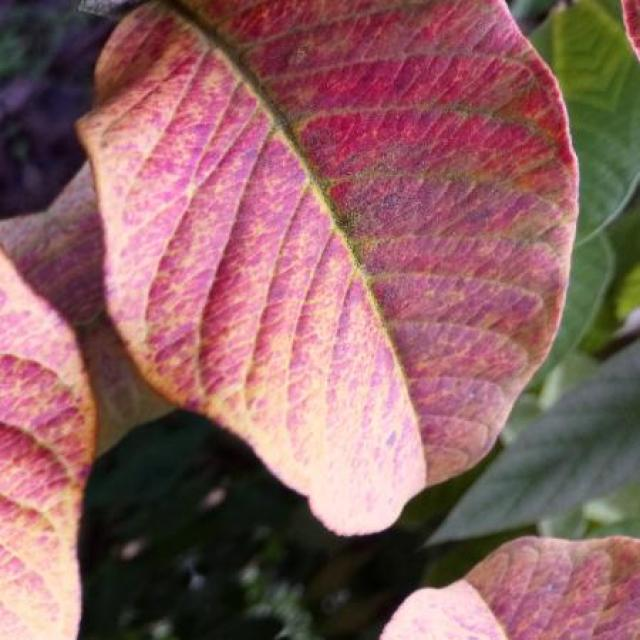Red Rust: (79, 0, 578, 534), (0, 250, 95, 639), (380, 536, 640, 639)
